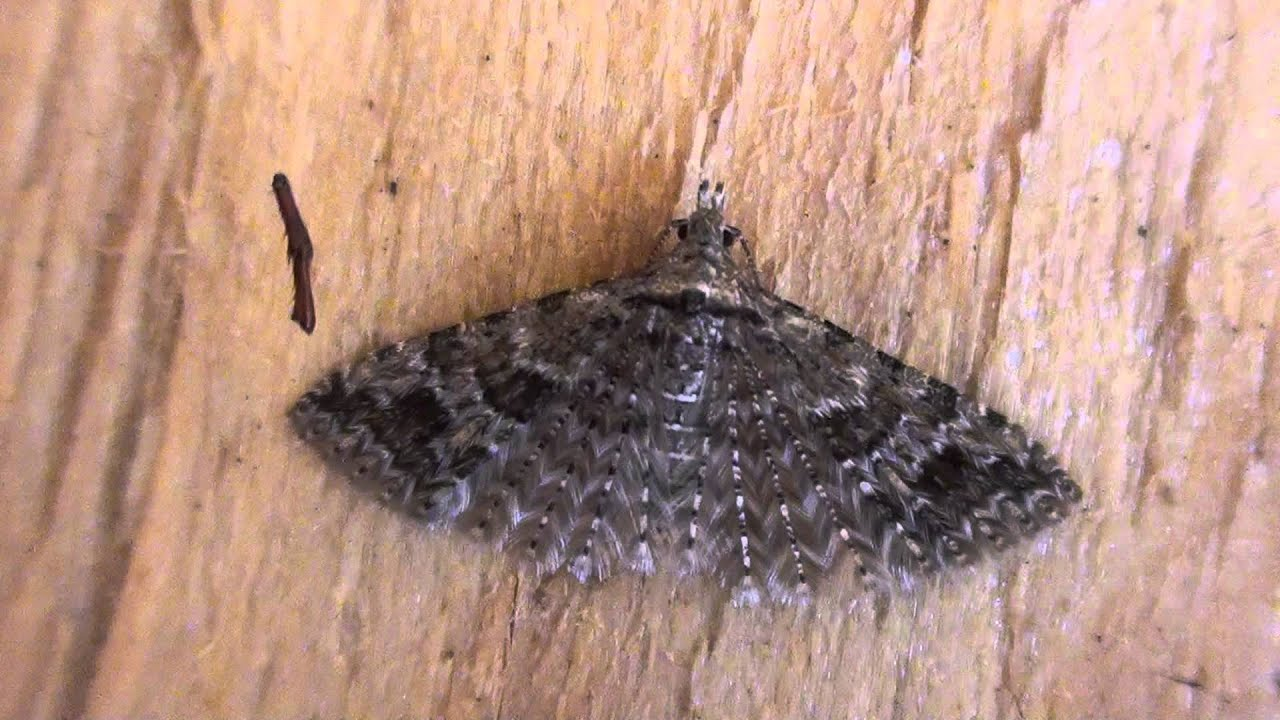Alucitidae: (272, 175, 1096, 614)
moth: (274, 177, 1098, 616)
